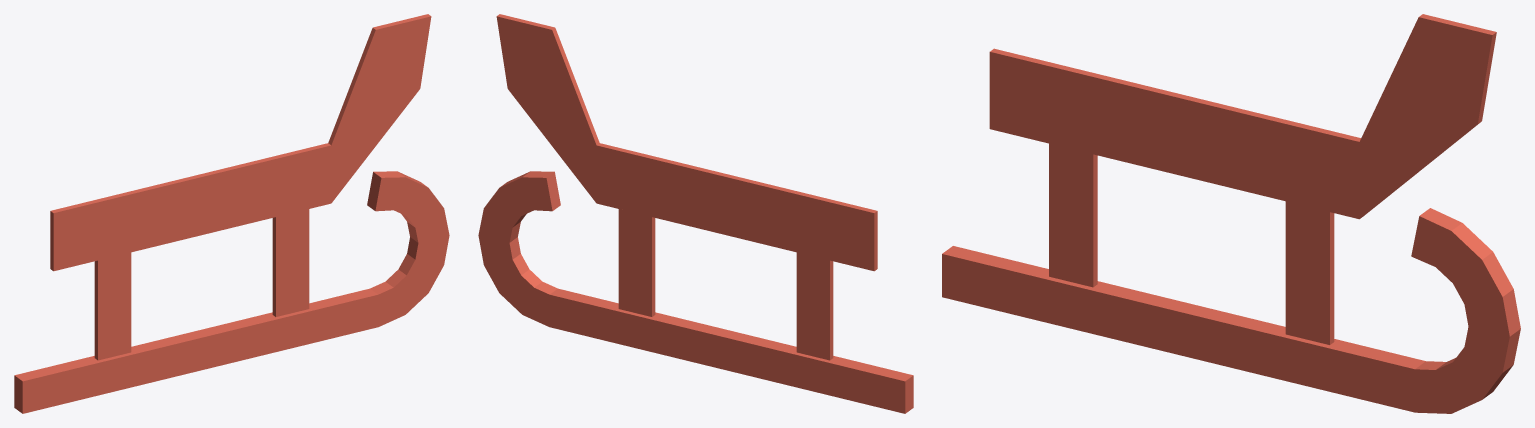
File: icon_sled.glb
3 renders of one model, left to right at view 1: azimuth 30°, elevation 25°; view 2: azimuth 150°, elevation 25°; view 3: azimuth 330°, elevation 25°, orthographic. The views are drawn at different scales.
Parts seen in each view (by area): view 1: icon_sled; view 2: icon_sled; view 3: icon_sled.
Part boxes in pixels (box(x1,y1,x2,y2)): icon_sled: box(14, 14, 449, 413); icon_sled: box(478, 14, 913, 413); icon_sled: box(942, 14, 1520, 413).
Bounding box in the file's own units: 0.384 × 0.254 × 0.013.
